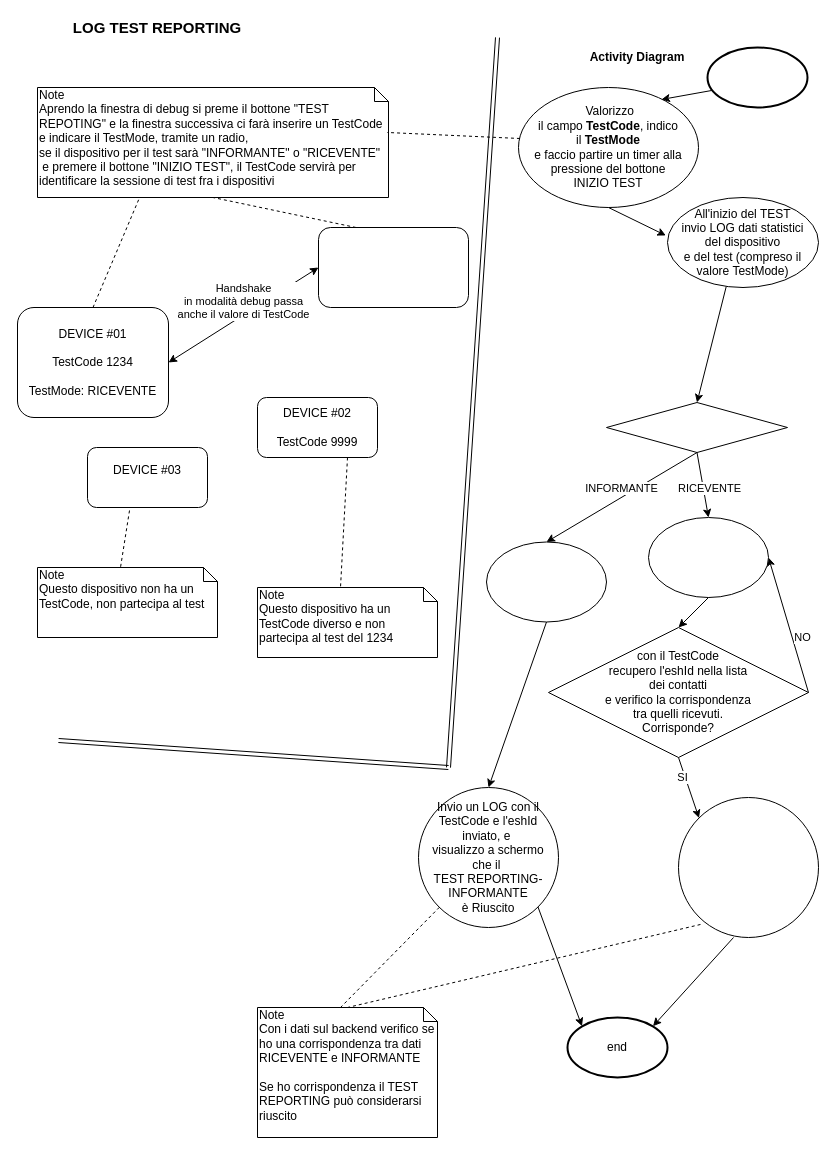
This 836x1155 diagram has some shape labels left out. The box of each missing label's shape, as (x1, y1, x2, y2) in pixels:
Attendo la SYNC con il backend e la ricezione dei nuovi infetti: (648, 516, 768, 598)
DEVICE #02 TestCode 1234 TestMode: INFORMANTE: (318, 226, 468, 308)
Inserisco il codice ed invio la segnalazione di positività: (486, 541, 606, 622)
Invio un LOG e visualizzo a schermo che il TEST REPORTING-RICEVENTE è Riuscito: (678, 796, 818, 938)
start: (706, 46, 808, 108)
Verifico il TestMode: (606, 402, 788, 452)
